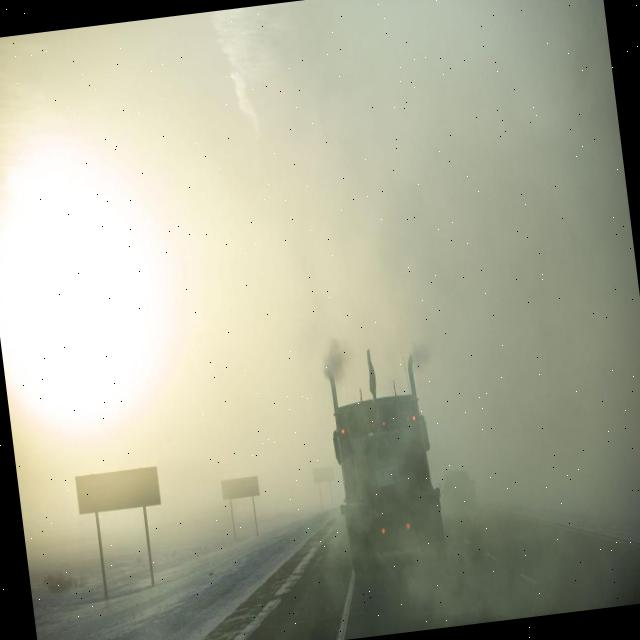bus: (322, 349, 447, 579)
car: (436, 470, 478, 510)
